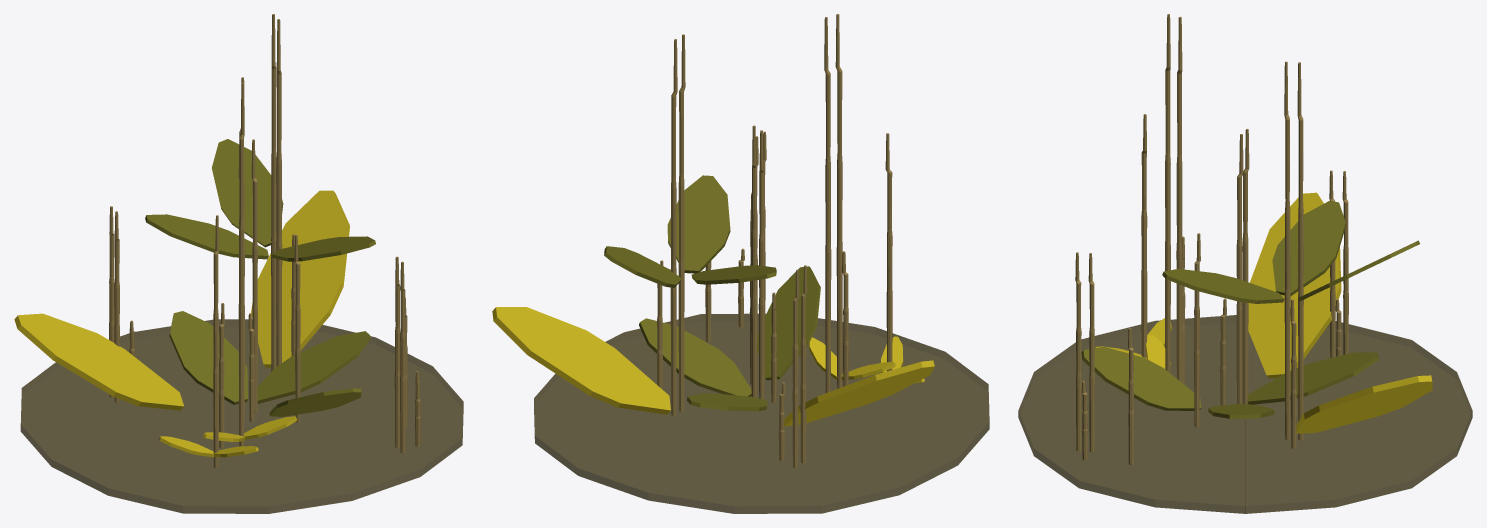
File: ReadyRedRaw.fbx
The picture shows the model from 3 angles, left to right: view 1: azimuth 30°, elevation 25°; view 2: azimuth 150°, elevation 25°; view 3: azimuth 270°, elevation 25°; orthographic projection. The views are drawn at different scales.
Parts seen in each view (by area): view 1: PlantRedReady; view 2: PlantRedReady; view 3: PlantRedReady.
Boxes of the visible parts, left/top/right/bottom form: PlantRedReady: left=14, top=14, right=463, bottom=513; PlantRedReady: left=492, top=14, right=989, bottom=513; PlantRedReady: left=1018, top=14, right=1472, bottom=513.
Bounding box in the file's own units: 140 × 129 × 138.
